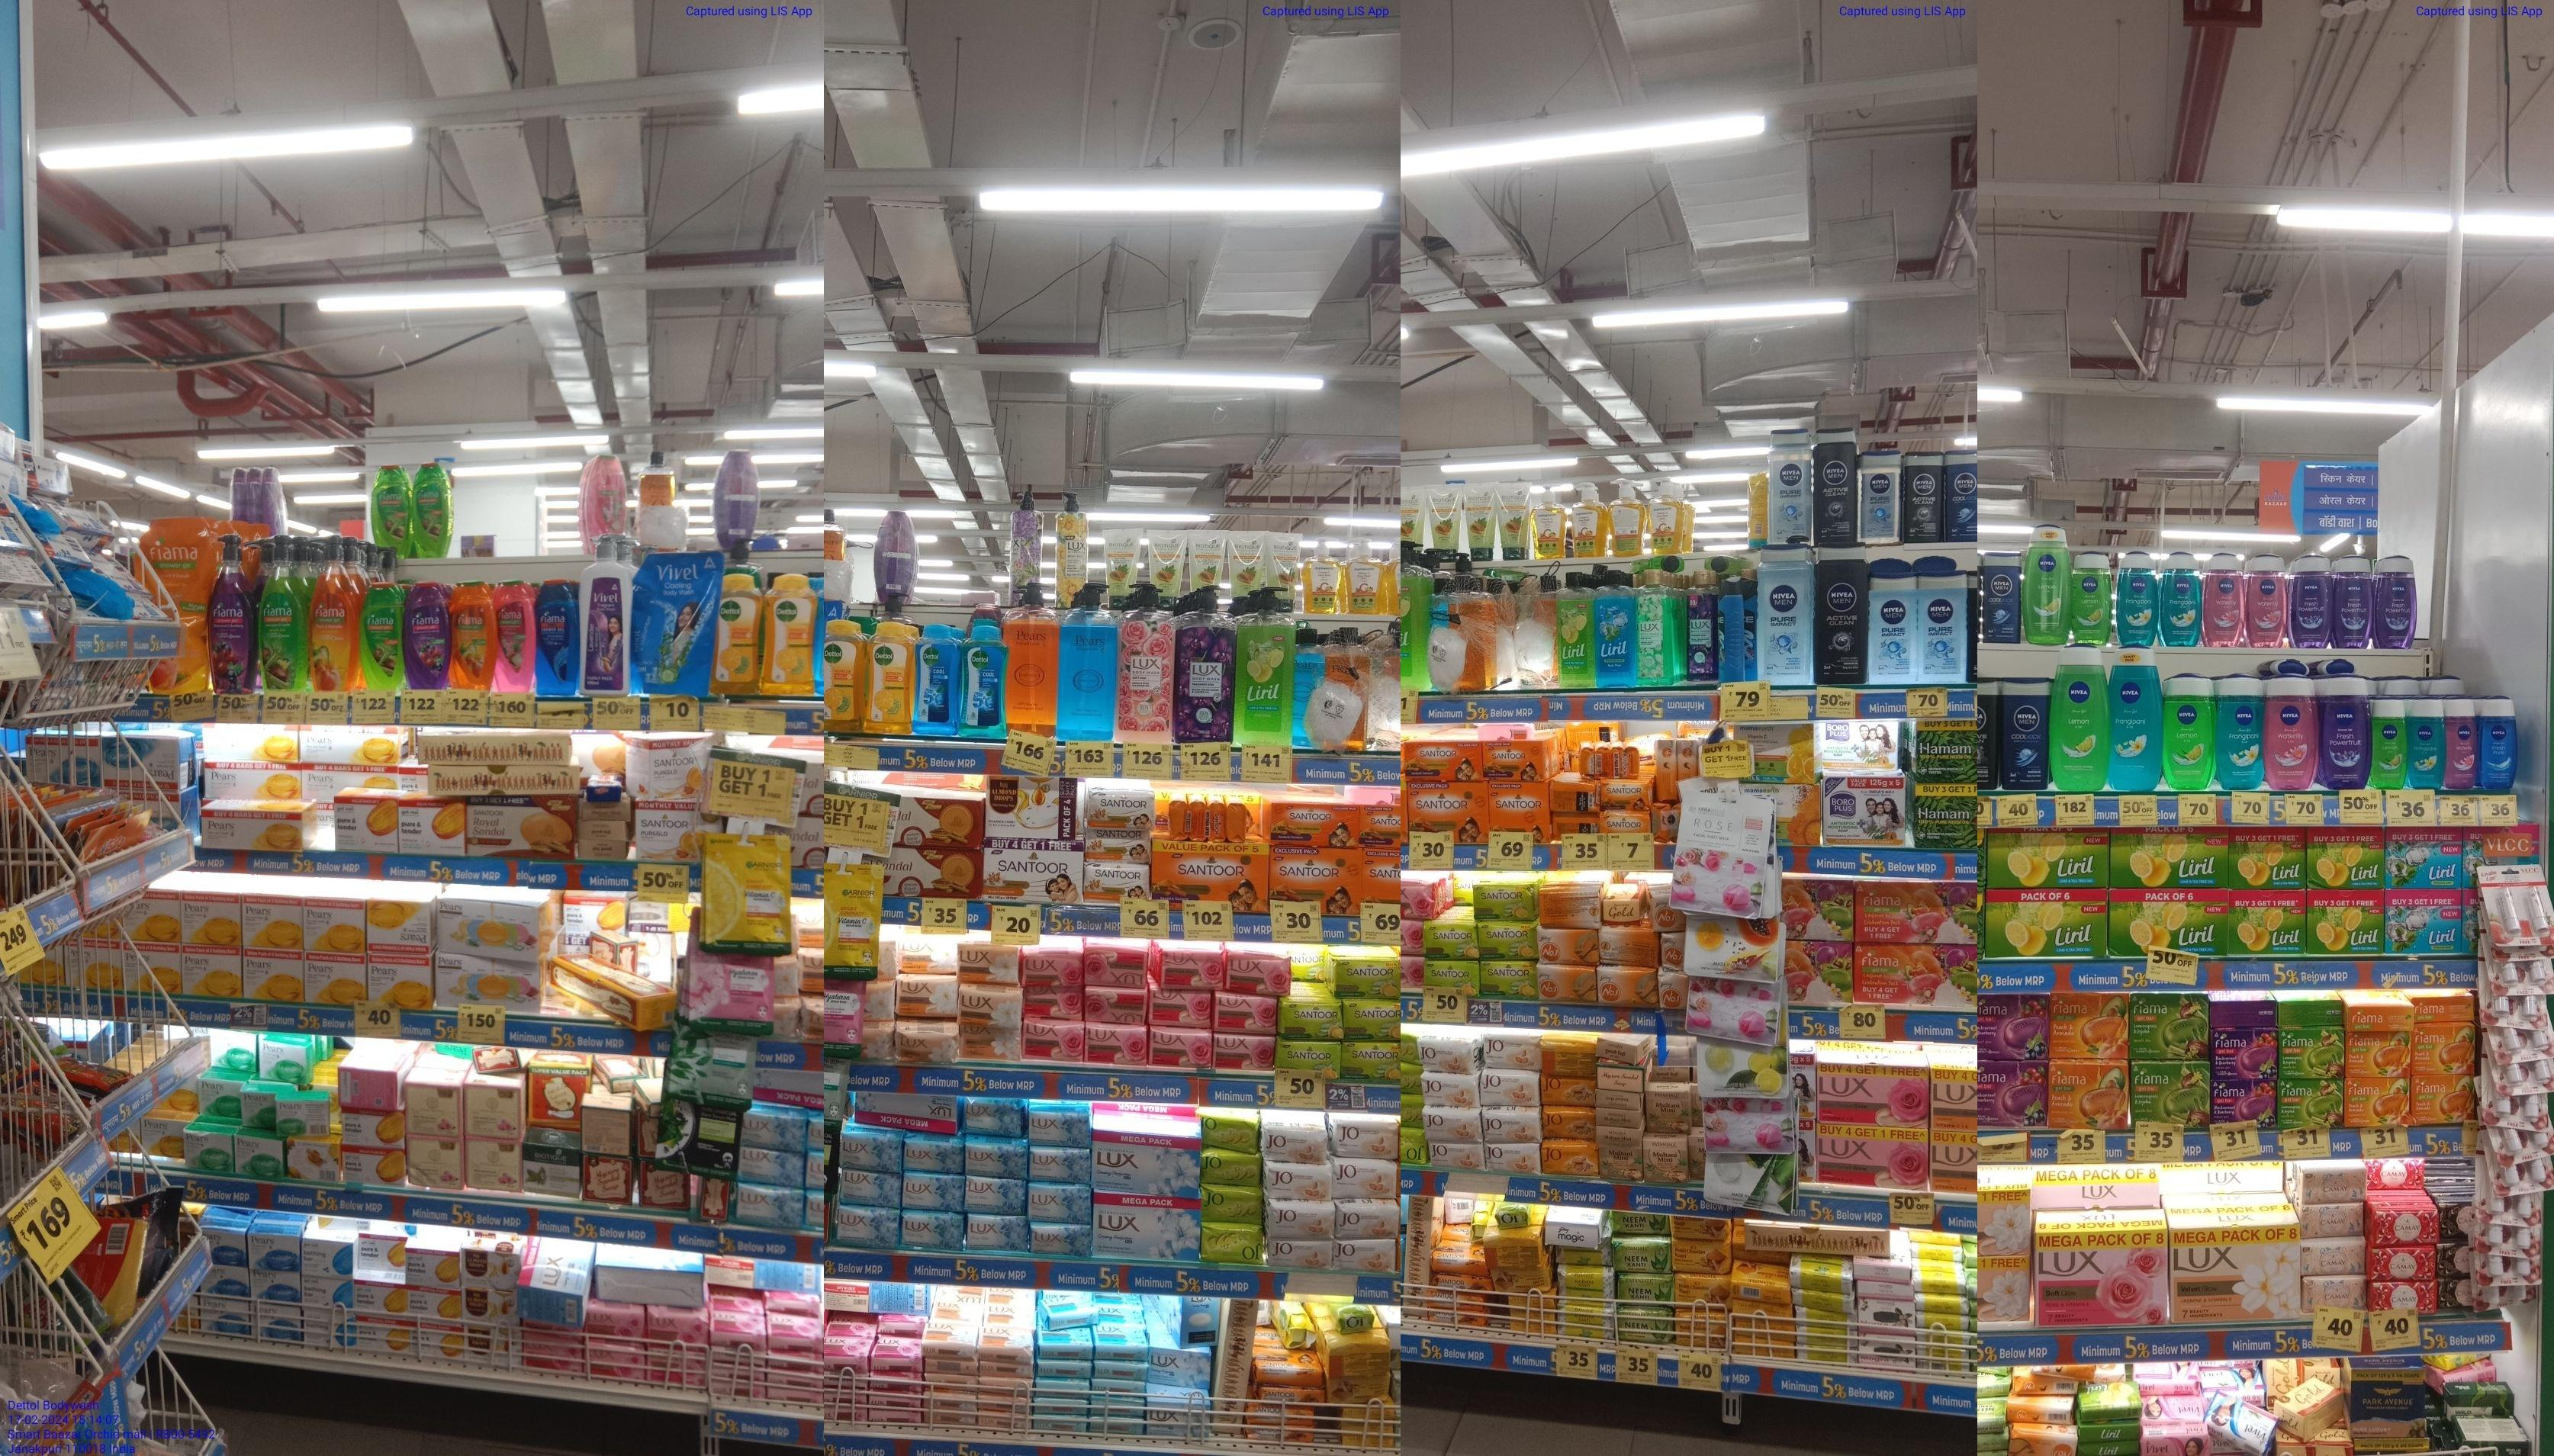Dettol_Bodywash_Cool: (960, 625, 1009, 740), (916, 625, 958, 739)
Dettol_Bodywash_Refresh: (763, 574, 814, 696), (716, 574, 761, 695), (867, 619, 910, 733), (824, 621, 861, 733)
Fiama_Shower_Gel_Lemongrass_and_Jojoba_250ML: (358, 582, 402, 689)
Fiama_Shower_Gel_Patchouli_and_Macadamia_250ML: (498, 581, 533, 693)
Fiama_Shower_Gel_Peach_and_Avocado_250ML: (451, 581, 496, 688)
Liril_Cooling_Mint_Body_Wash_250ML: (1594, 570, 1637, 689)
Liril_Lime_and_Tea_Tree_Oil_Body_Wash_250ML: (1558, 572, 1594, 689)
Lux_Black_Orchid_Scent_and_Juniper_Oil_Body_Wash_245ML: (1687, 570, 1716, 682)
Lux_Body_Wash_Skin_Detox_Freesia_Scent_and_Alove_Vera_245ML: (1638, 568, 1673, 686)
Nivea_Shower_Gel_Frangipani_and_Oil_250ML: (2114, 653, 2159, 791), (2219, 674, 2263, 788), (2115, 553, 2158, 647), (2159, 553, 2200, 647)
Nivea_Shower_Gel_Fresh_Powerfruit_250ML: (2322, 677, 2372, 789), (2291, 554, 2329, 647), (2377, 556, 2415, 649), (2333, 554, 2370, 649)
Nivea_Shower_Gel_Lemon_and_Oil_250ML: (2052, 654, 2110, 795), (2159, 672, 2217, 796), (2024, 525, 2072, 651), (2072, 553, 2110, 644)
Nivea_Shower_Gel_Waterlily_and_Oil_250ML: (2266, 677, 2317, 791), (2203, 553, 2244, 649), (2247, 554, 2284, 647)
